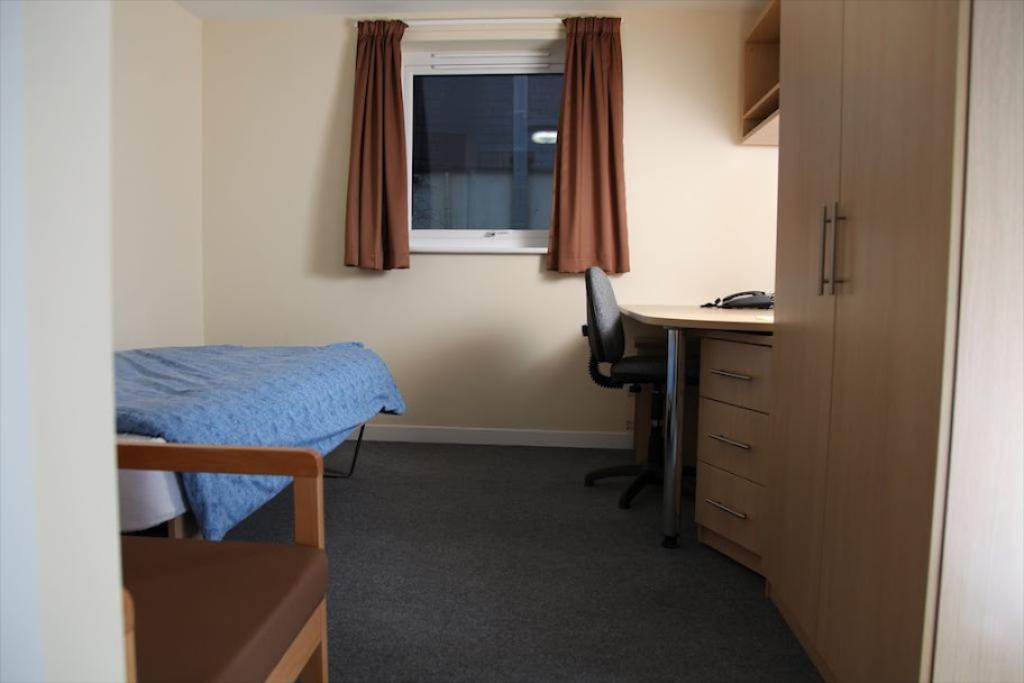cabinet_door: (845, 16, 945, 683), (767, 5, 825, 618), (694, 402, 776, 468), (699, 472, 771, 540), (699, 338, 769, 396)
handle: (813, 205, 833, 288), (830, 201, 846, 288), (708, 424, 753, 453), (706, 496, 746, 524), (706, 368, 754, 391)
